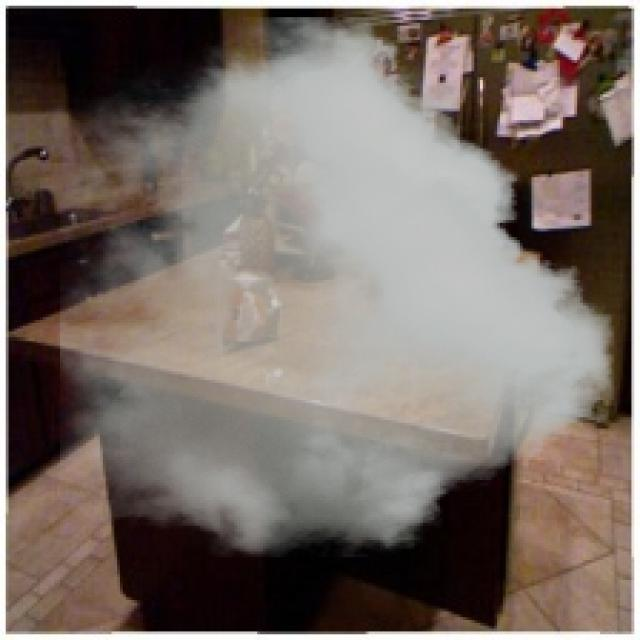smoke: (60, 17, 614, 557)
